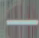No entry: (3, 1, 38, 35)
